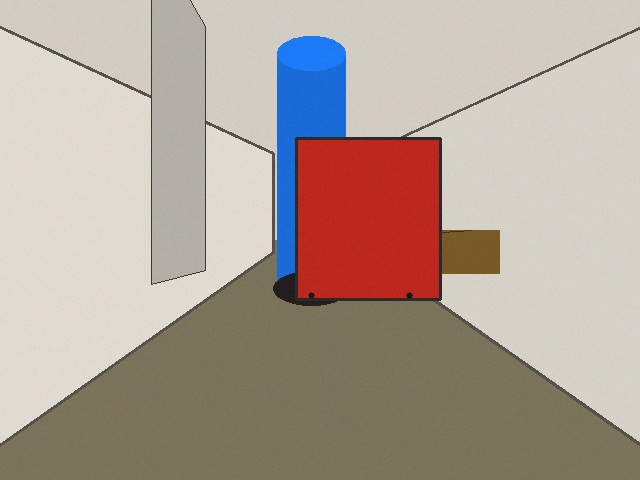cart: (296, 138, 440, 299)
directional_sign: (334, 152, 421, 196)
pallet: (373, 230, 499, 273)
person: (277, 53, 345, 288)
